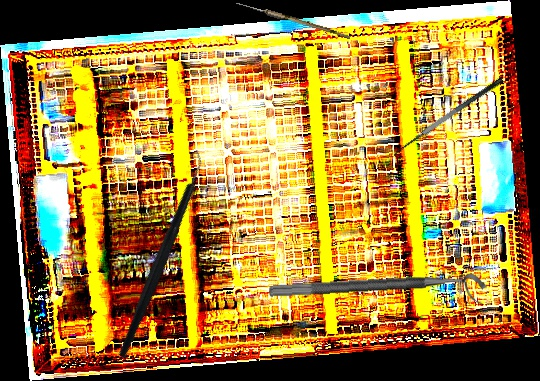Chopper: (55, 145, 263, 361)
Fixation Ring: (268, 272, 488, 316)
Spatula Surgical: (389, 76, 511, 164)
Surgical Spoon: (235, 0, 352, 40)
